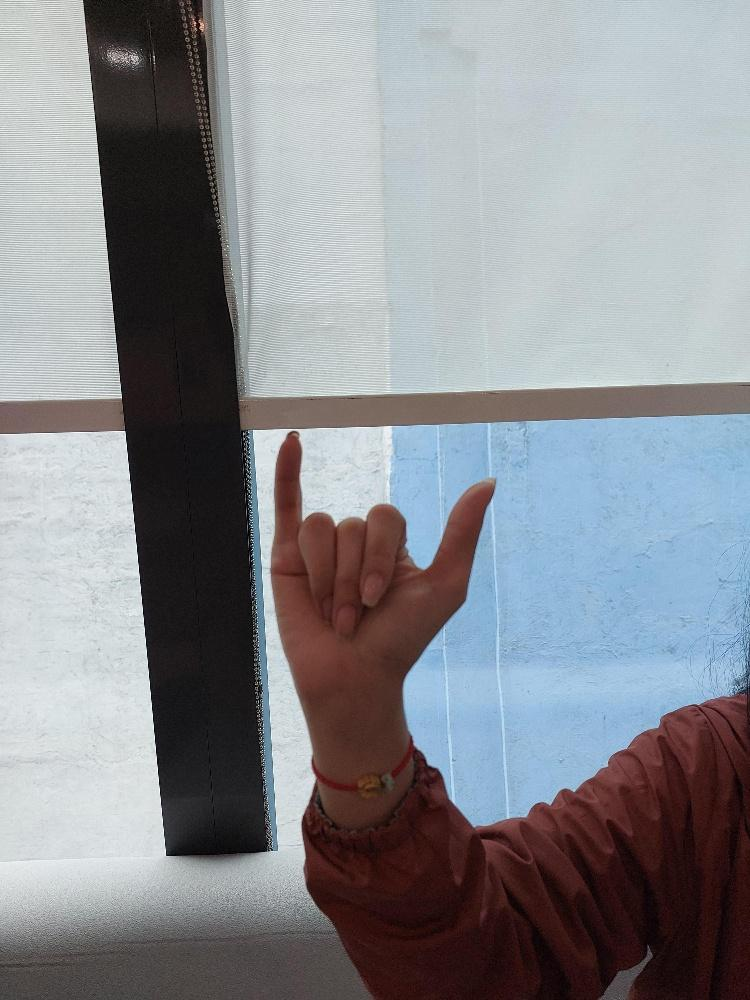y: (264, 421, 496, 714)
